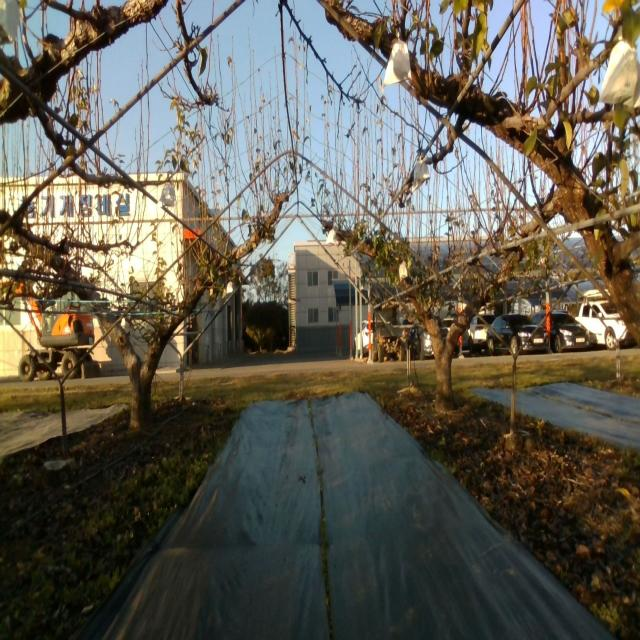pearbags: (598, 40, 640, 109), (383, 31, 412, 88), (411, 160, 430, 193), (157, 178, 174, 208), (326, 228, 337, 248)
